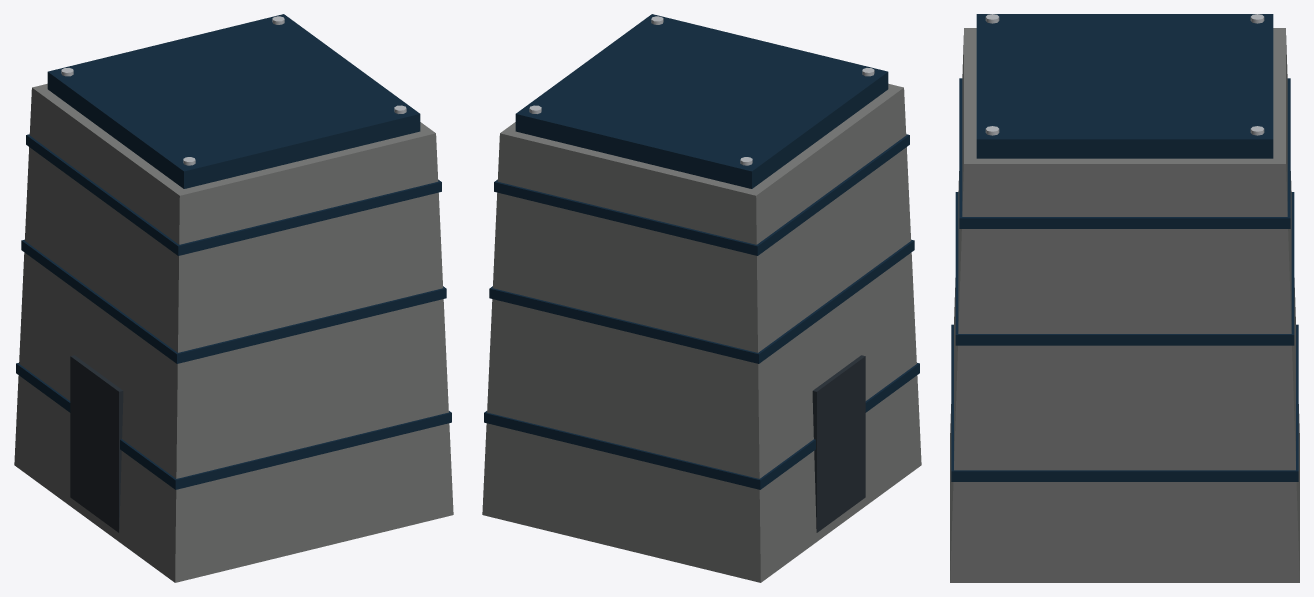
The model's file is world_gantry_base.glb.
The picture shows the model from 3 angles, left to right: view 1: azimuth 30°, elevation 25°; view 2: azimuth 150°, elevation 25°; view 3: azimuth 270°, elevation 25°; orthographic projection. The views are drawn at different scales.
Visible parts, largest first — view 1: world_gantry_base_mesh; view 2: world_gantry_base_mesh; view 3: world_gantry_base_mesh.
Part boxes in pixels (x1,y1,x2,y2): world_gantry_base_mesh: [14, 14, 453, 582]; world_gantry_base_mesh: [482, 14, 921, 582]; world_gantry_base_mesh: [950, 14, 1299, 582].
Bounding box in the file's own units: 6.6 × 9.08 × 6.6.
